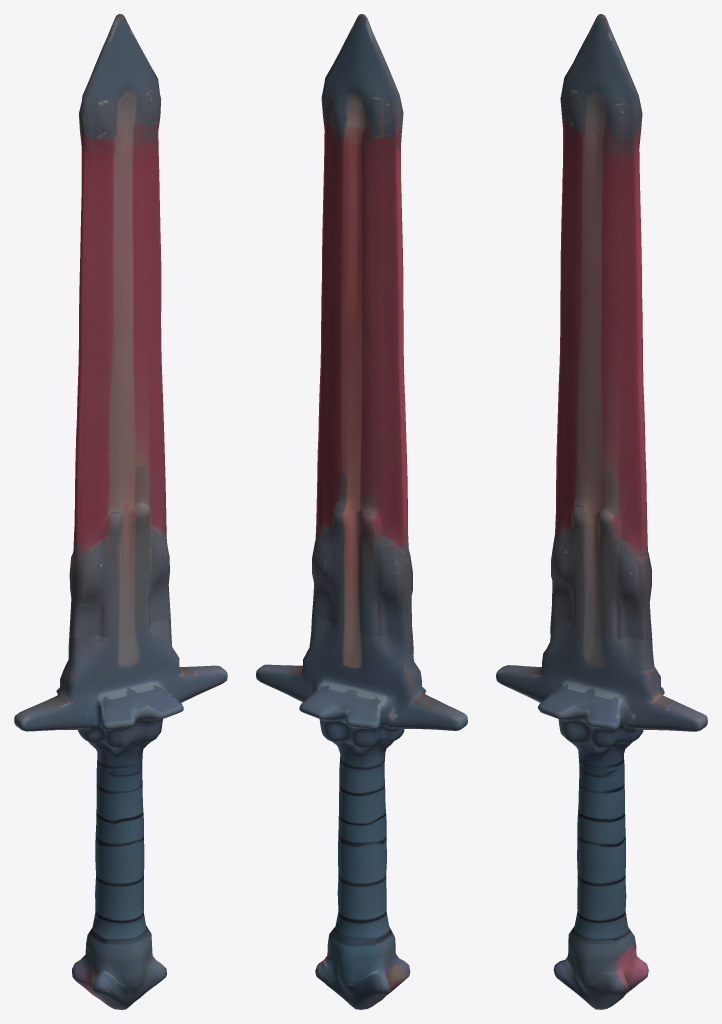
File: SciFiSword.fbx
3 views of the same model, side by side, from view 1: azimuth 30°, elevation 25°; view 2: azimuth 150°, elevation 25°; view 3: azimuth 330°, elevation 25° (orthographic).
Parts seen in each view (by area): view 1: Sword_blade, Sword_handle; view 2: Sword_blade, Sword_handle; view 3: Sword_blade, Sword_handle.
Boxes of the visible parts, x1=… form: Sword_blade: x1=69, y1=14, x2=170, y2=638; Sword_handle: x1=14, y1=616, x2=227, y2=1009; Sword_blade: x1=312, y1=14, x2=412, y2=637; Sword_handle: x1=256, y1=616, x2=467, y2=1009; Sword_blade: x1=551, y1=14, x2=651, y2=639; Sword_handle: x1=496, y1=614, x2=707, y2=1009.
Bounding box in the file's own units: 0.2176 × 0.9996 × 0.1021.
1 material, 1 textured.
